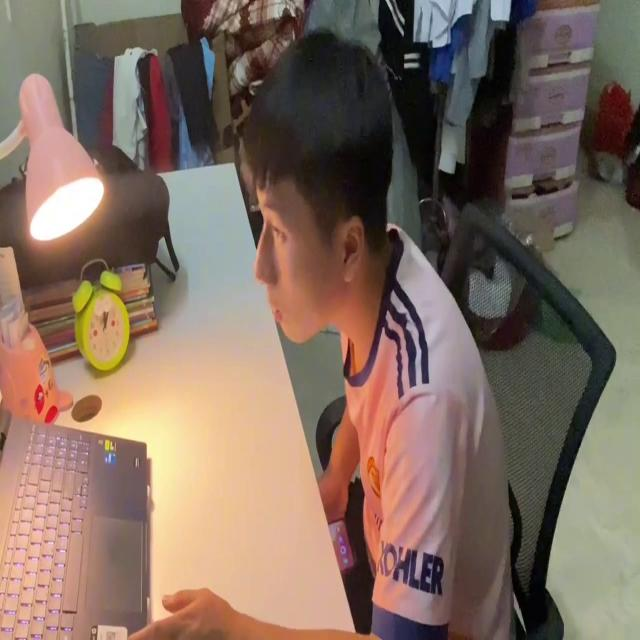laptop: (0, 400, 154, 640)
phone: (326, 515, 355, 574)
student: (125, 32, 513, 640)
